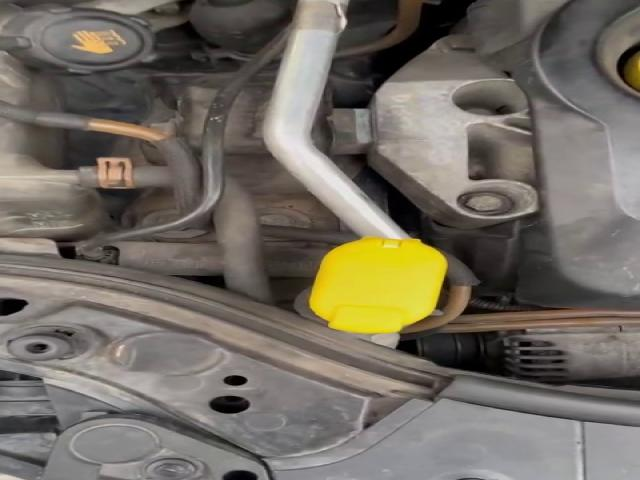antifreeze_tank: (0, 4, 155, 111), (0, 120, 108, 240)
